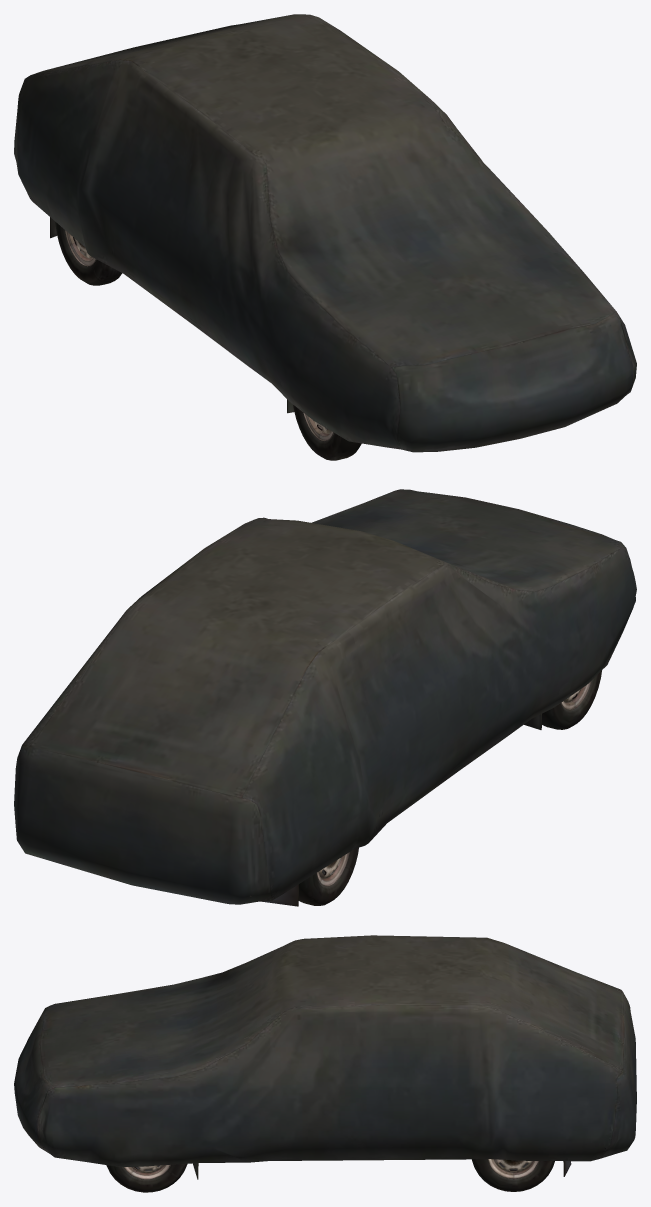
File: covered-car.glb
3 views of the same model, one above another, from view 1: azimuth 30°, elevation 25°; view 2: azimuth 150°, elevation 25°; view 3: azimuth 270°, elevation 25° (orthographic). The views are drawn at different scales.
Visible parts, largest first — view 1: covered_car, covered_car_wheel_03, covered_car_wheel_02; view 2: covered_car, covered_car_wheel_03, covered_car_wheel_02; view 3: covered_car, covered_car_wheel_04, covered_car_wheel_01.
Boxes of the visible parts, box(x1,y1,x2,y2) form: covered_car: box(14, 14, 636, 452); covered_car_wheel_03: box(55, 222, 122, 285); covered_car_wheel_02: box(293, 405, 361, 460); covered_car: box(14, 489, 636, 906); covered_car_wheel_03: box(298, 847, 358, 905); covered_car_wheel_02: box(542, 670, 601, 729); covered_car: box(14, 935, 636, 1179); covered_car_wheel_04: box(472, 1159, 554, 1191); covered_car_wheel_01: box(106, 1163, 187, 1192).
Bounding box in the file's own units: 1.79 × 1.41 × 4.38.
1 material, 1 textured.
